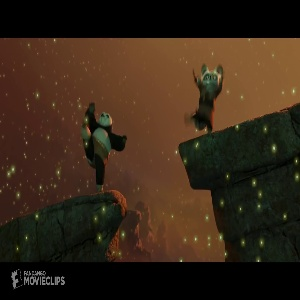po: (77, 99, 130, 193)
shifu: (188, 60, 225, 133)
